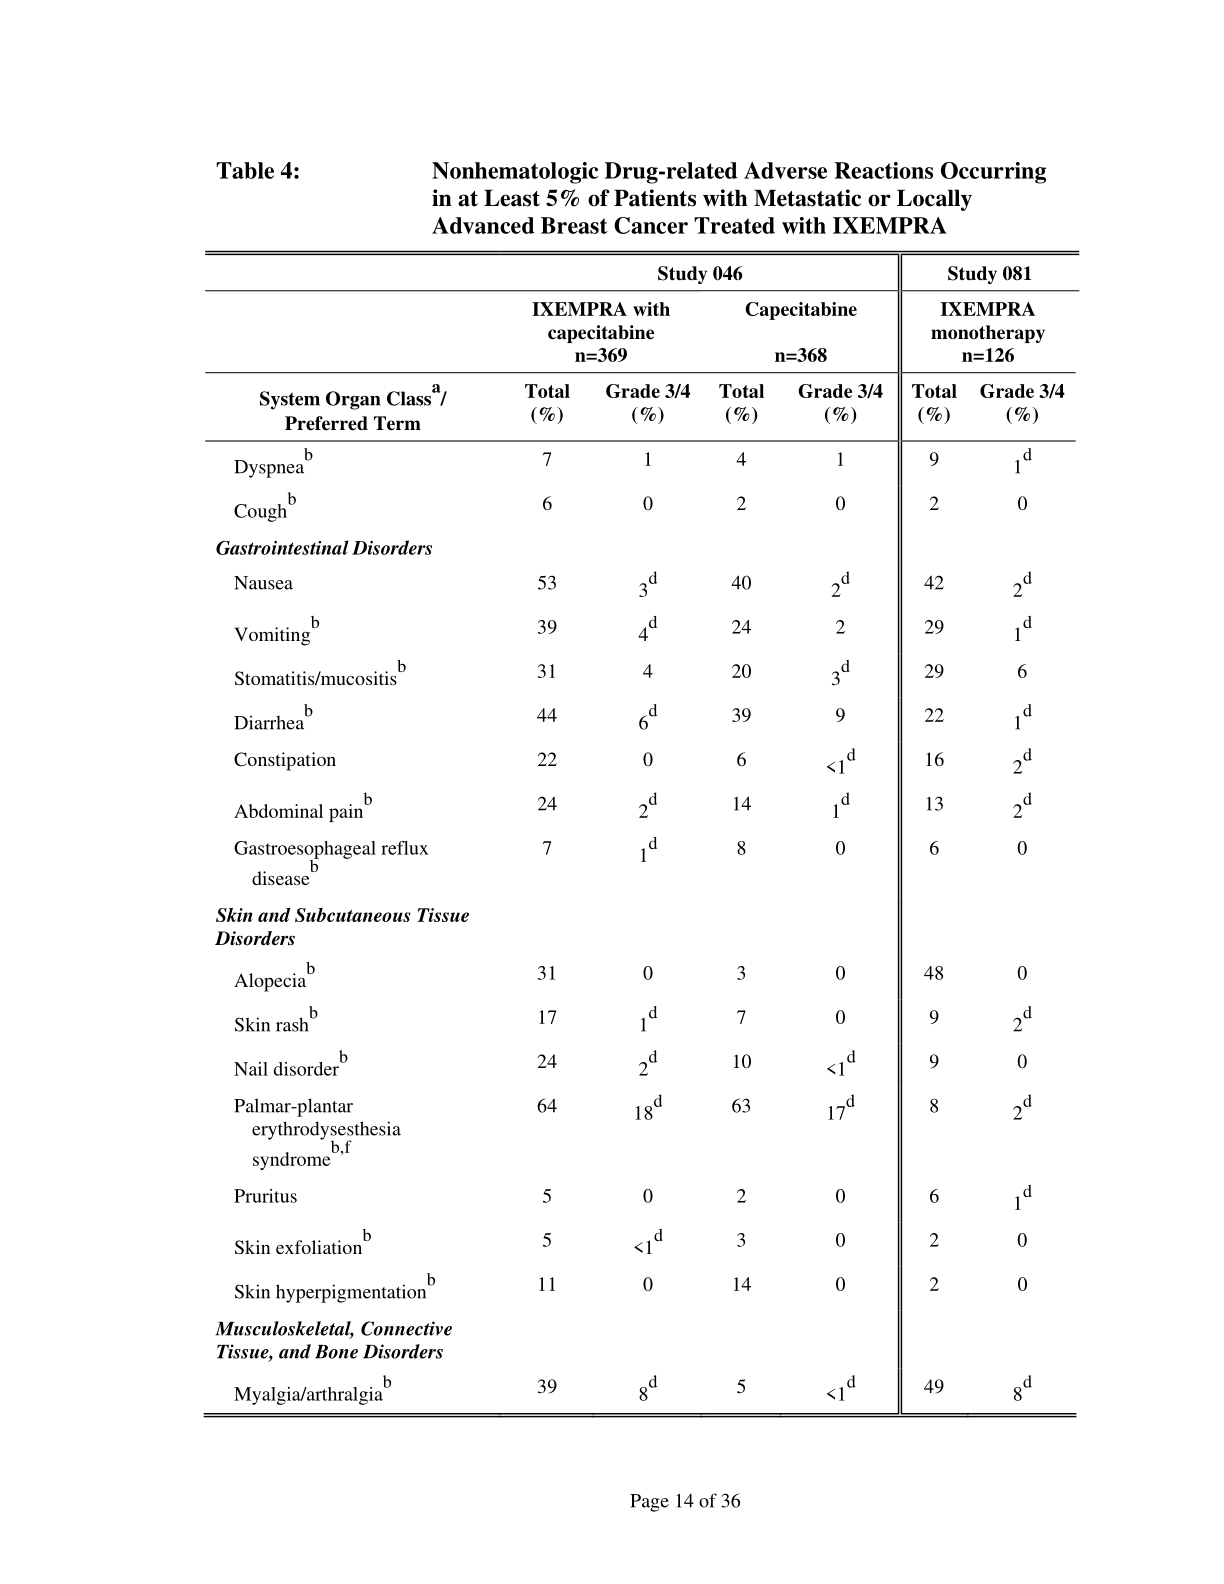partial_lined_merged_cells: (202, 249, 1079, 1419)
